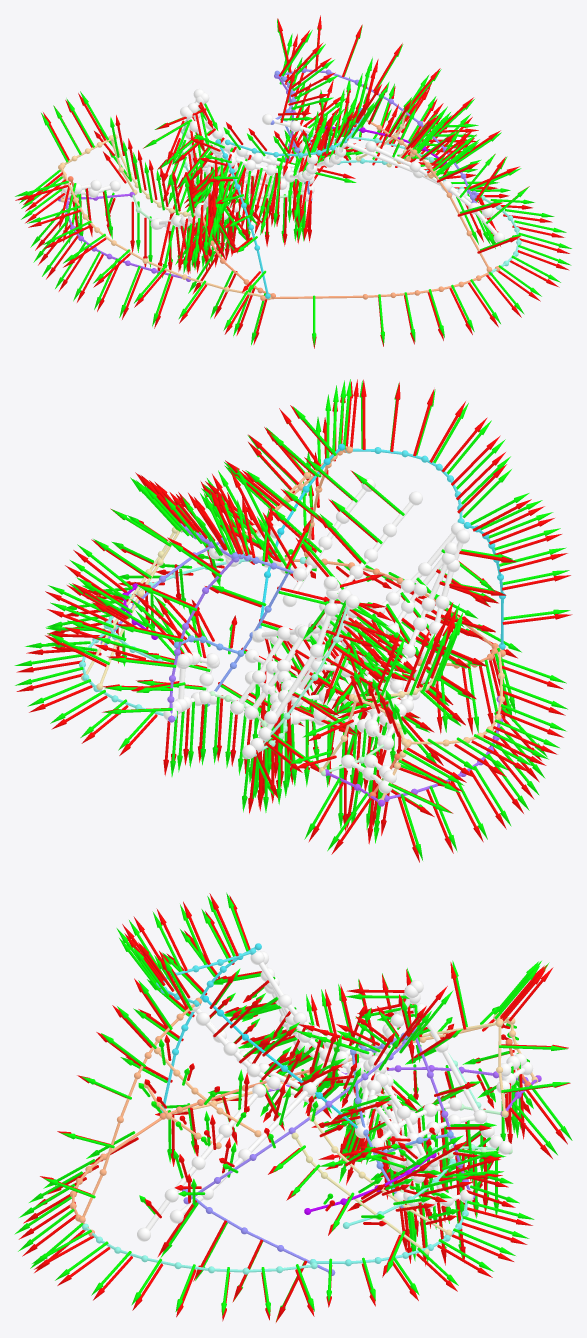
Rendered from author1_building.gltf.
3 renders of one model, top to bottom at view 1: azimuth 30°, elevation 25°; view 2: azimuth 150°, elevation 25°; view 3: azimuth 270°, elevation 25°, orthographic. The views are drawn at different scales.
Size of the model in its own units: 0.8797 by 0.464 by 0.7912.
